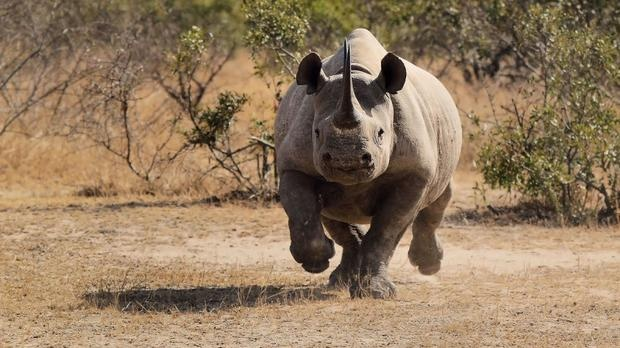rhino: (270, 28, 464, 303)
